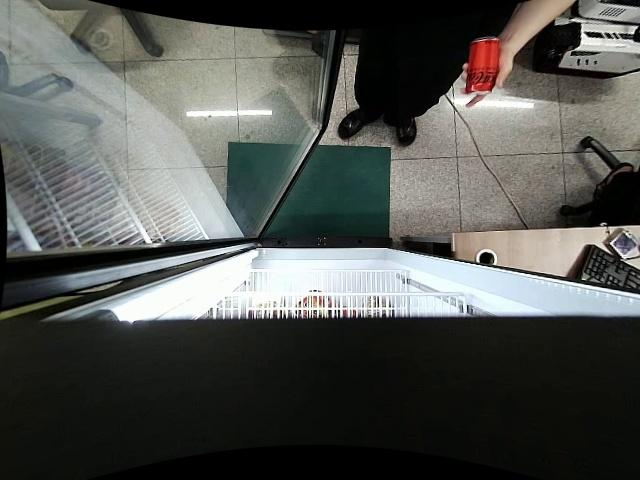00_hand: (455, 46, 514, 109)
11_cocaColaZero: (468, 37, 503, 97)
